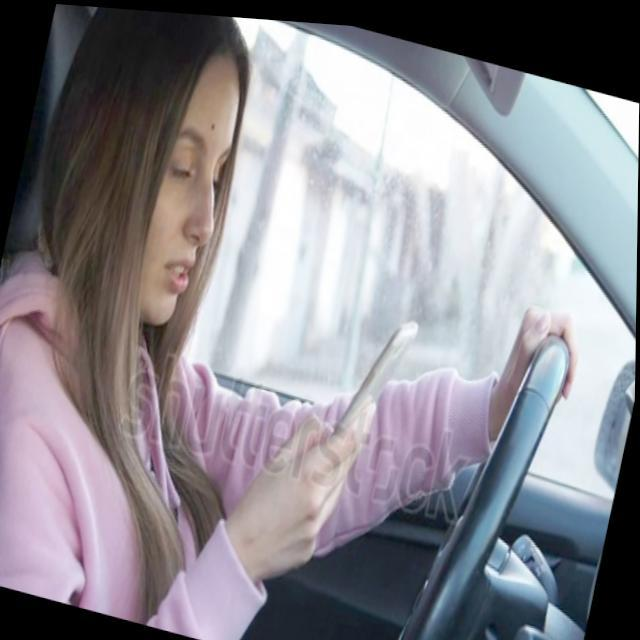PhoneCall: (316, 293, 422, 475)
